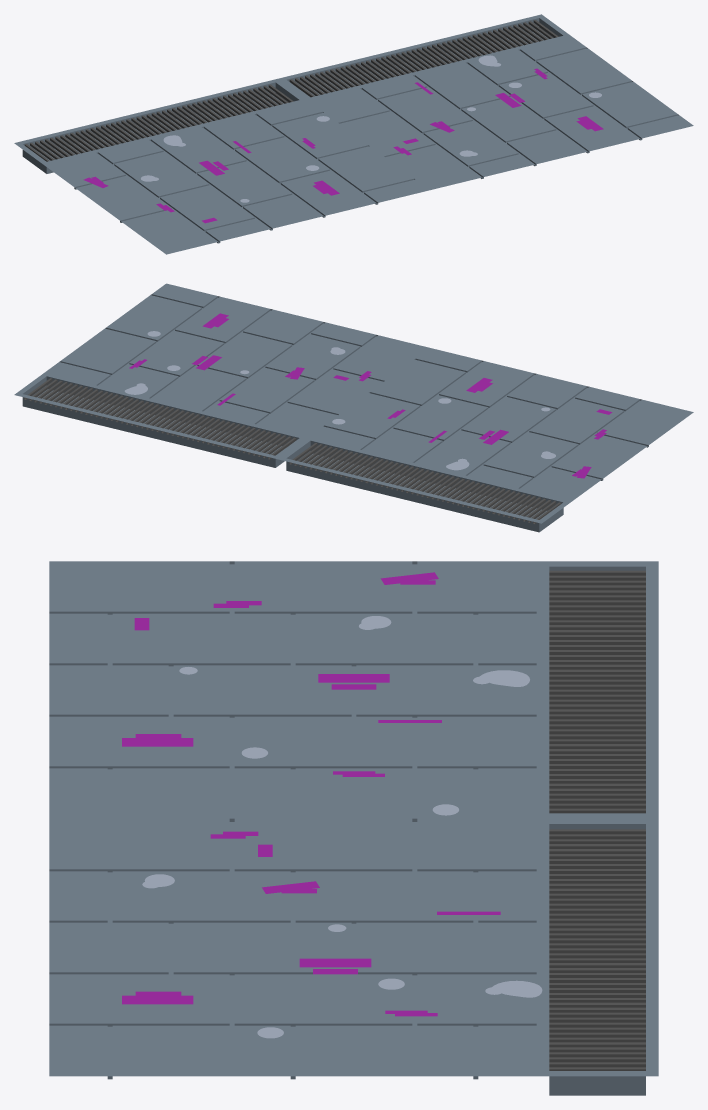
Rendered from decor2_1.fbx.
The picture shows the model from 3 angles, top to bottom: view 1: azimuth 30°, elevation 25°; view 2: azimuth 150°, elevation 25°; view 3: azimuth 270°, elevation 25°; orthographic projection. The views are drawn at different scales.
Visible parts, largest first — view 1: decor2_3; view 2: decor2_3; view 3: decor2_3.
Boxes of the visible parts, <box> form: decor2_3: <box>14,14,693,254</box>; decor2_3: <box>14,283,693,532</box>; decor2_3: <box>49,561,658,1095</box>.
Bounding box in the file's own units: 1766 × 42.55 × 883.
